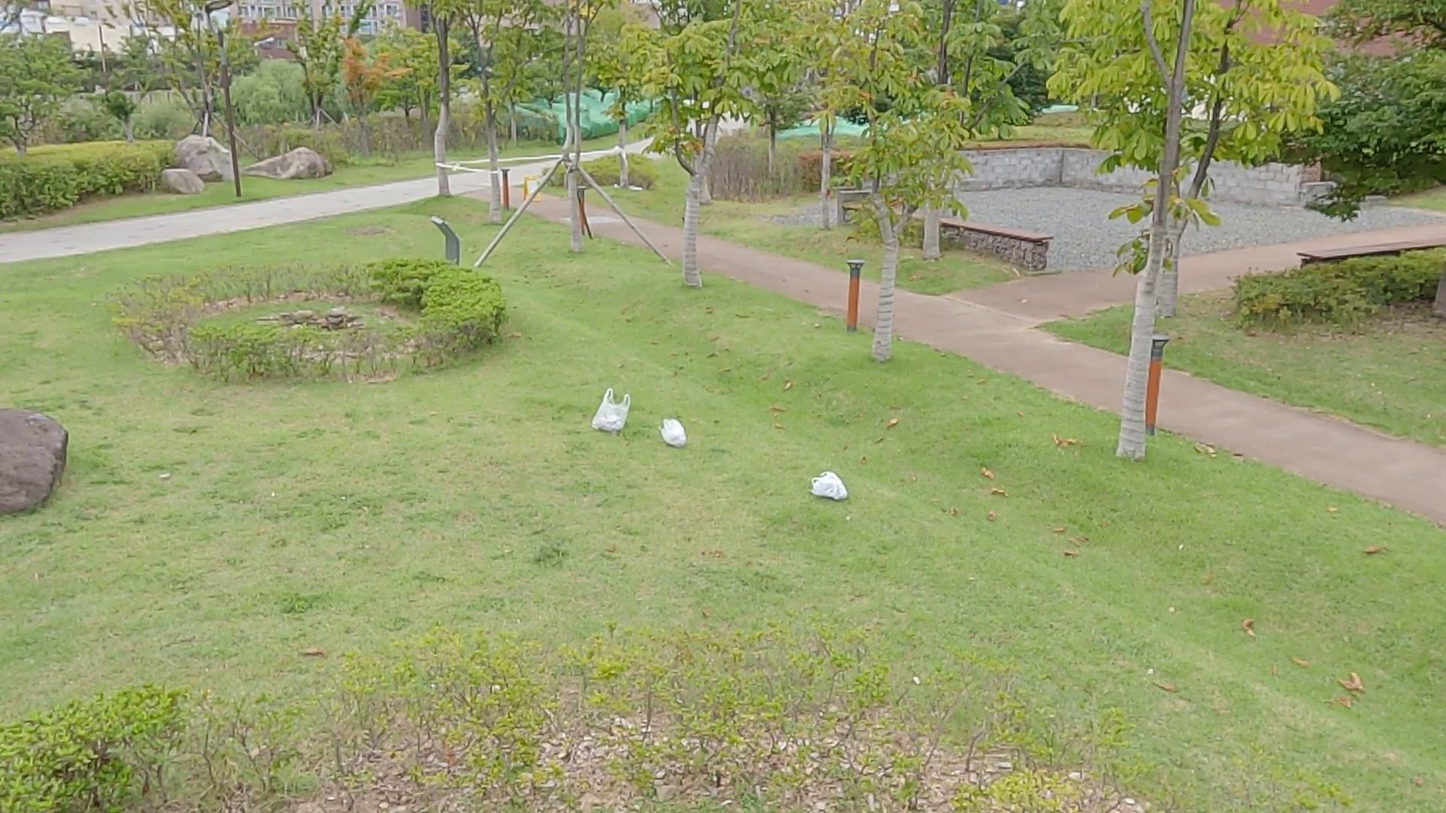trash: (590, 386, 634, 432), (808, 468, 855, 504), (656, 415, 691, 452)
